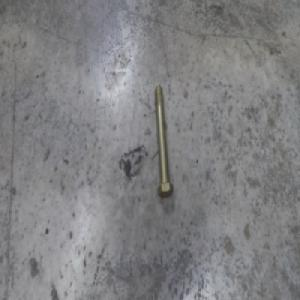Bolt: (152, 85, 173, 198)
